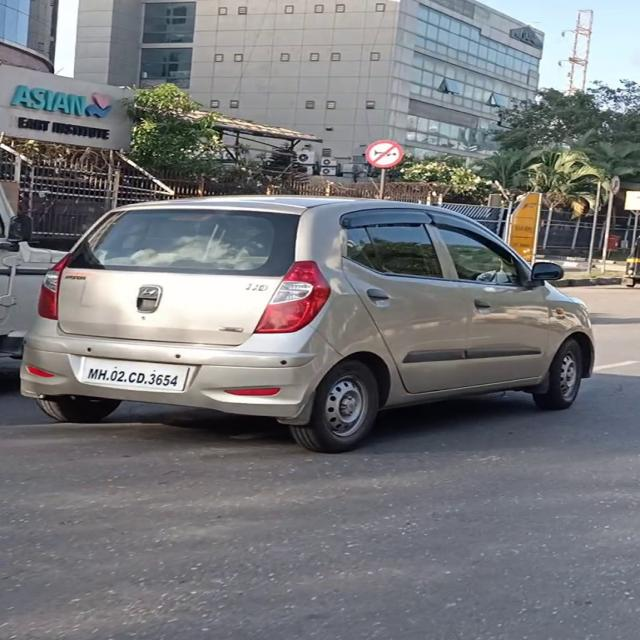Plate: (80, 356, 187, 393)
